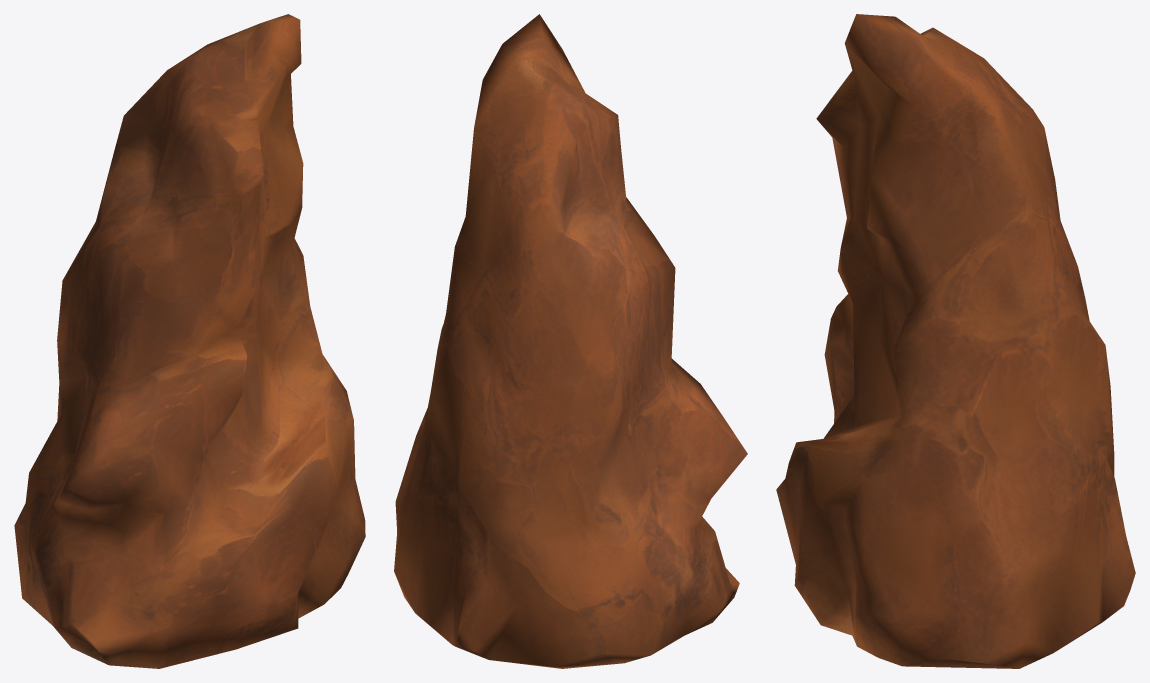
Rendered from rock_3.glb.
3 views of the same model, side by side, from view 1: azimuth 30°, elevation 25°; view 2: azimuth 150°, elevation 25°; view 3: azimuth 270°, elevation 25° (orthographic). The views are drawn at different scales.
Parts seen in each view (by area): view 1: tripo_node_462b2596-a4b8-4d7c-aa9b-1e8dfd5e3f90; view 2: tripo_node_462b2596-a4b8-4d7c-aa9b-1e8dfd5e3f90; view 3: tripo_node_462b2596-a4b8-4d7c-aa9b-1e8dfd5e3f90.
Boxes of the visible parts, x1,y1,x2,y2 form: tripo_node_462b2596-a4b8-4d7c-aa9b-1e8dfd5e3f90: (14,14,365,668); tripo_node_462b2596-a4b8-4d7c-aa9b-1e8dfd5e3f90: (394,14,747,668); tripo_node_462b2596-a4b8-4d7c-aa9b-1e8dfd5e3f90: (776,14,1135,668).
Size of the model in its own units: 0.5633 by 1.01 by 0.5197.
1 material, 1 textured.
